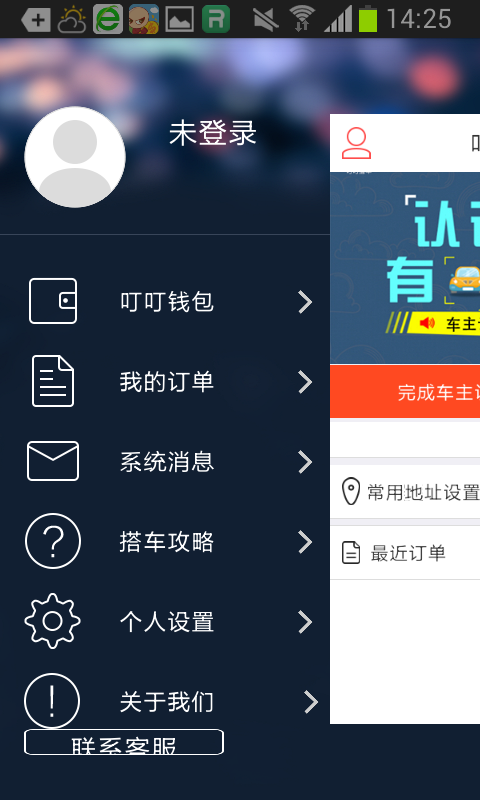imgbutton: (283, 284, 320, 322)
textview: (10, 266, 325, 730)
